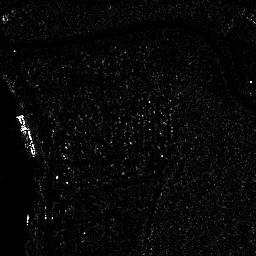ship: (15, 115, 36, 157)
